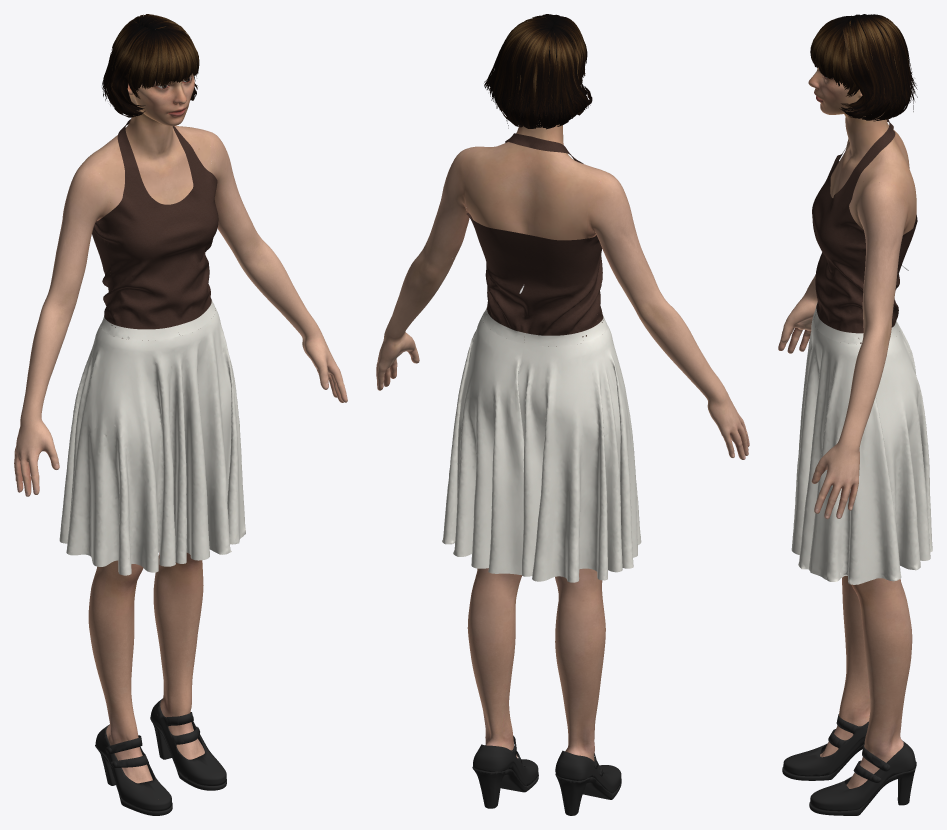
3 views of the same model, side by side, from view 1: azimuth 30°, elevation 25°; view 2: azimuth 150°, elevation 25°; view 3: azimuth 270°, elevation 25° (orthographic). The views are drawn at different scales.
Parts seen in each view (by area): view 1: Cloth, Avatar; view 2: Avatar, Cloth; view 3: Avatar, Cloth.
Part boxes in pixels (x1,y1,x2,y2): Cloth: (59, 119, 245, 575); Avatar: (14, 14, 347, 815); Avatar: (376, 14, 749, 815); Cloth: (442, 133, 641, 582); Avatar: (778, 14, 917, 815); Cloth: (791, 119, 932, 584).
Bounding box in the file's own units: 0.7811 × 1.67 × 0.3037.
16 materials, 15 textured.
